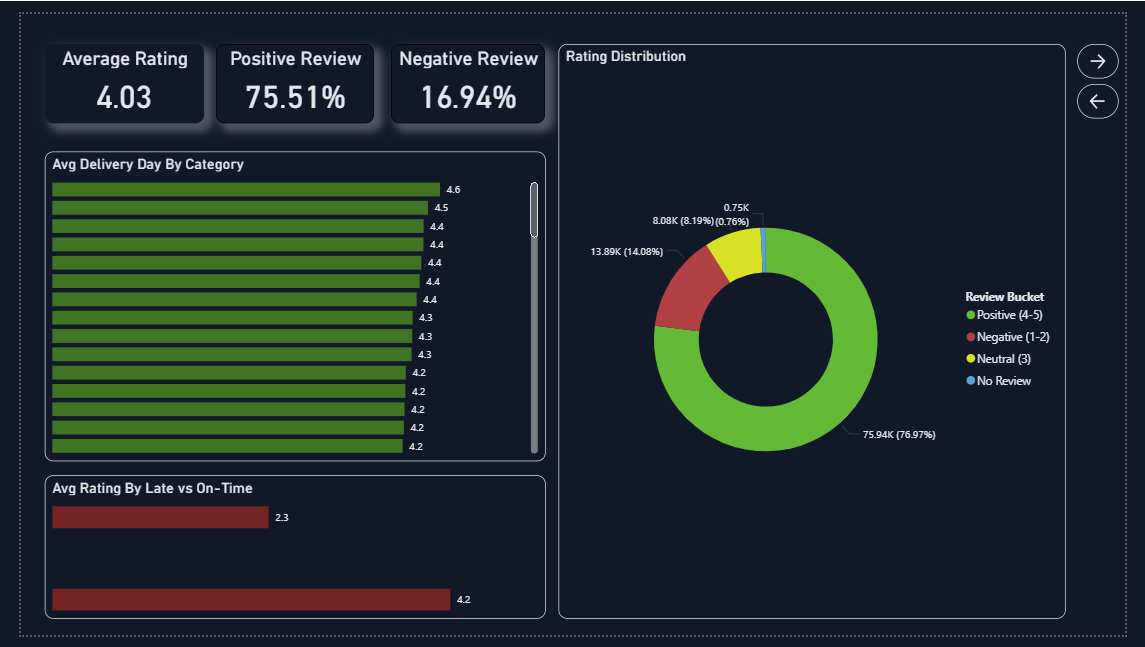

What the dashboard file says about the page in this screenshot:
{"tool":"powerbi","page":{"name":"Reviews ","canvas":[1280,720],"ordinal":6},"visuals":[{"type":"card","title":"Average Rating","fields":{"Values":["public bi_fact_sales.Avg Rating"]},"box":[26.9,34.2,184.6,91.7],"z":0},{"type":"card","title":"Positive Review","fields":{"Values":["public bi_fact_sales.Positive Reviews %"]},"box":[226.2,34.2,183.4,91.7],"z":1000},{"type":"card","title":"Negative Review","fields":{"Values":["public bi_fact_sales.Negative Reviews %"]},"box":[429.2,34.2,178.5,91.7],"z":2000},{"type":"donutChart","title":"Rating Distribution","fields":{"Y":["public bi_fact_sales.Orders"],"Category":["public bi_fact_sales.Review Bucket"]},"box":[623.6,34.2,588.2,666.4],"z":3000},{"type":"barChart","title":"Avg Rating By Late vs On-Time","fields":{"Y":["public bi_fact_sales.Avg Rating"],"Category":["public bi_fact_sales.is_late"]},"box":[26.9,534.4,580.8,166.3],"z":4000},{"type":"barChart","title":"Avg Delivery Day By Category","fields":{"Category":["public bi_fact_sales.category"],"Y":["public bi_fact_sales.Avg Rating"]},"box":[26.9,159,580.8,359.5],"z":5000},{"type":"actionButton","box":[1224.1,34.2,47.7,40.4],"z":6000},{"type":"actionButton","box":[1224.1,80.7,47.7,40.4],"z":7000}]}

Visuals, with their boxes in screenshot pixels (x1, y1, x2, y2), scaled from the page's 1280x720 canvas onto the 1145x647 screenshot:
"Average Rating" card: bbox(24, 31, 189, 113)
"Positive Review" card: bbox(202, 31, 366, 113)
"Negative Review" card: bbox(384, 31, 544, 113)
"Rating Distribution" donutChart: bbox(558, 31, 1084, 630)
"Avg Rating By Late vs On-Time" barChart: bbox(24, 480, 544, 630)
"Avg Delivery Day By Category" barChart: bbox(24, 143, 544, 466)
actionButton: bbox(1095, 31, 1138, 67)
actionButton: bbox(1095, 73, 1138, 109)
